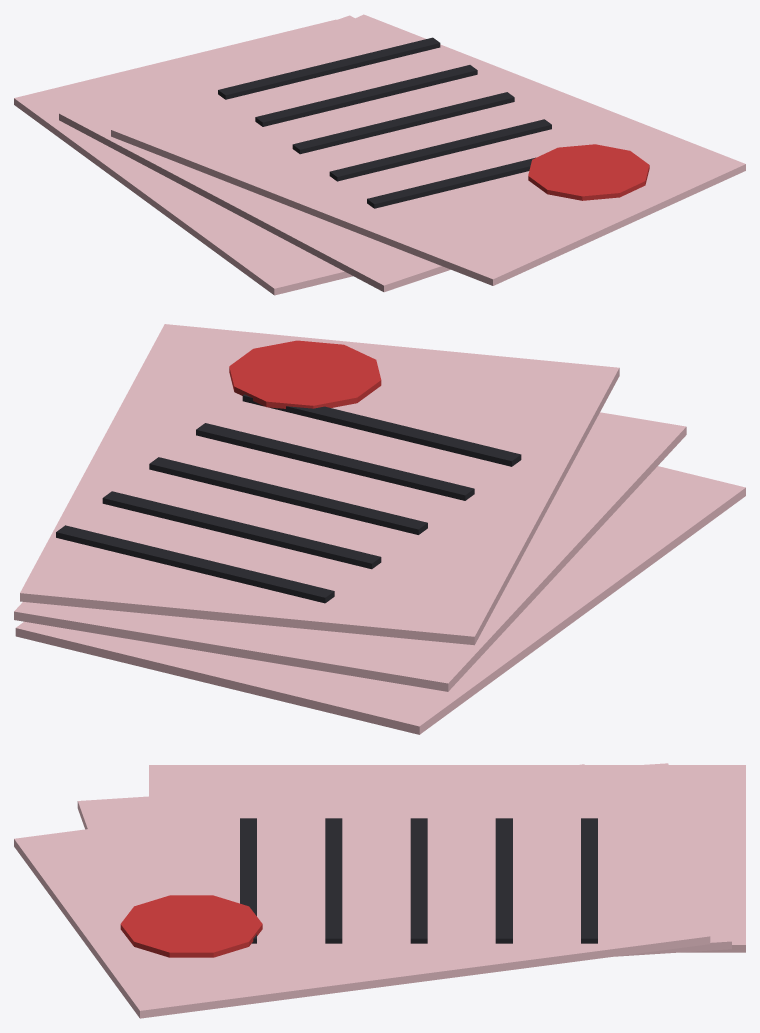
File: garage_fake_invoices.glb
The picture shows the model from 3 angles, top to bottom: view 1: azimuth 30°, elevation 25°; view 2: azimuth 150°, elevation 25°; view 3: azimuth 270°, elevation 25°; orthographic projection. The views are drawn at different scales.
Visible parts, largest first — view 1: paper_invoice_pink (×3), lines_sheet_ink (×5), stamp_sign_red; view 2: paper_invoice_pink (×3), lines_sheet_ink (×5), stamp_sign_red; view 3: paper_invoice_pink (×3), lines_sheet_ink (×5), stamp_sign_red.
Part boxes in pixels (box(x1,y1,x2,y2)): paper_invoice_pink (×3): box(14, 14, 745, 295); lines_sheet_ink (×5): box(218, 37, 551, 208); stamp_sign_red: box(528, 144, 649, 200); paper_invoice_pink (×3): box(14, 324, 745, 734); lines_sheet_ink (×5): box(56, 394, 521, 603); stamp_sign_red: box(229, 340, 381, 408); paper_invoice_pink (×3): box(14, 763, 745, 1018); lines_sheet_ink (×5): box(240, 818, 597, 943); stamp_sign_red: box(120, 895, 262, 957).
Size of the model in its own units: 0.2177 by 0.0135 by 0.2575.
